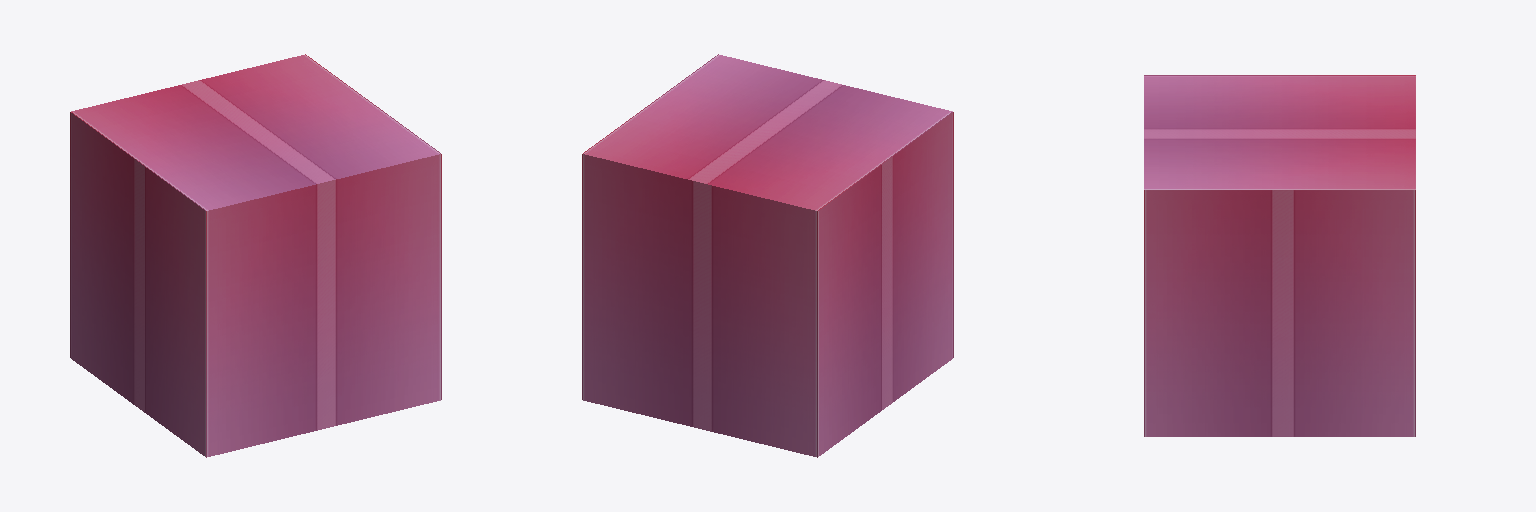
3 renders of one model, left to right at view 1: azimuth 30°, elevation 25°; view 2: azimuth 150°, elevation 25°; view 3: azimuth 270°, elevation 25°, orthographic.
Parts seen in each view (by area): view 1: cube; view 2: cube; view 3: cube.
Boxes of the visible parts, x1=… form: cube: x1=70, y1=54, x2=441, y2=457; cube: x1=582, y1=54, x2=953, y2=457; cube: x1=1144, y1=75, x2=1415, y2=436.
Bounding box in the file's own units: 1 × 1 × 1.
1 materials, 1 textured.